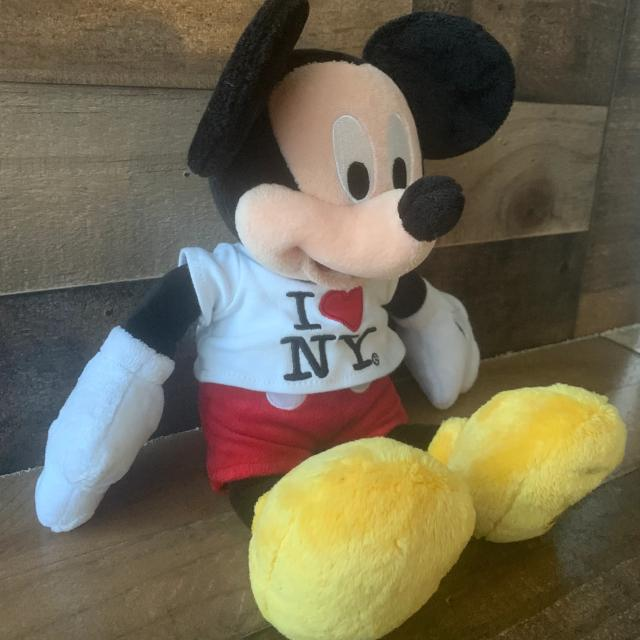mickey: (36, 0, 514, 531)
